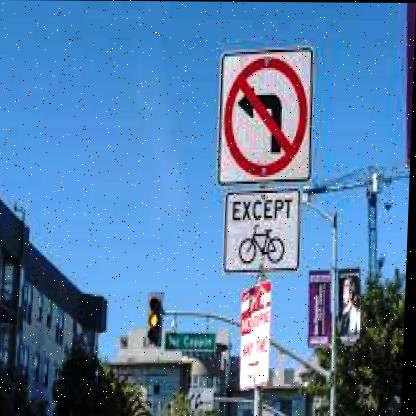No left turn: (219, 55, 313, 180)
